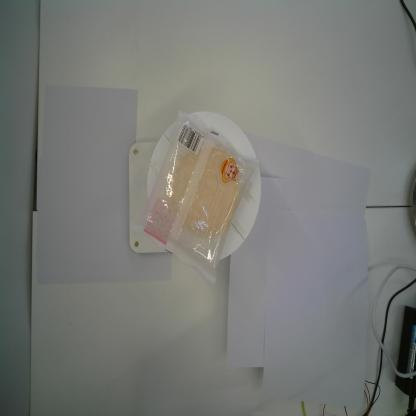Dessert: (138, 105, 262, 292)
